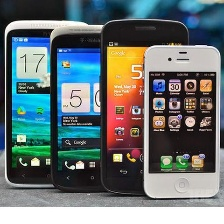phone: (97, 15, 190, 198), (2, 16, 95, 190), (46, 21, 134, 195), (140, 41, 222, 201)
